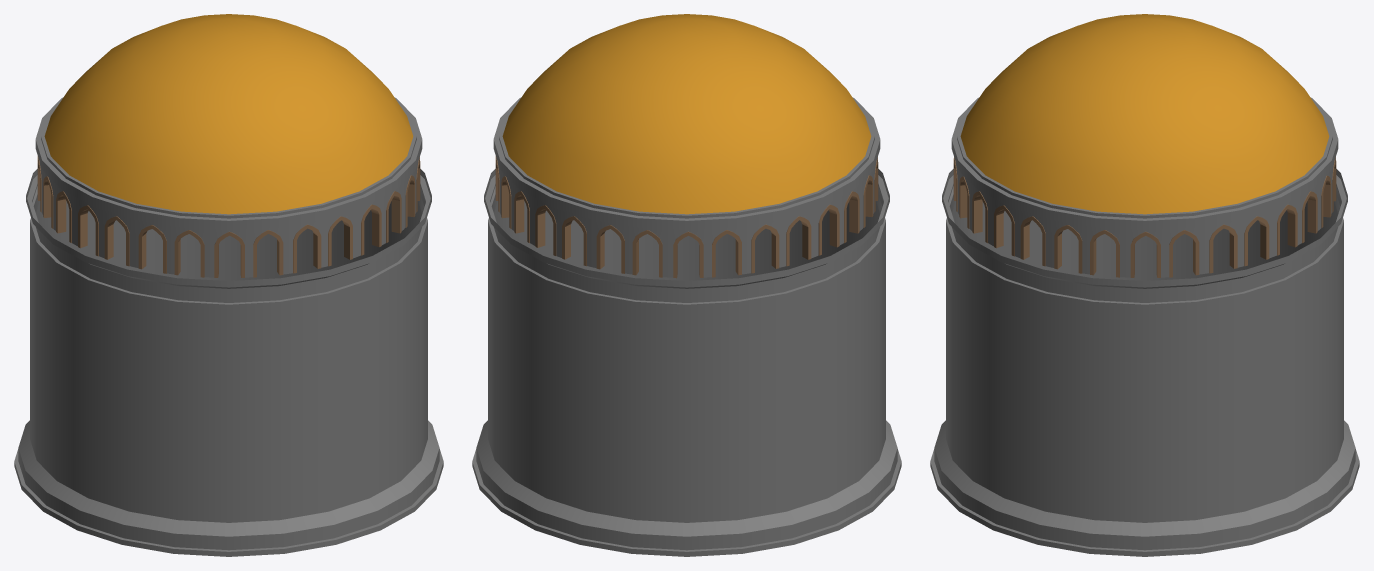
File: SM_building_dome_modular_02.fbx
3 views of the same model, side by side, from view 1: azimuth 30°, elevation 25°; view 2: azimuth 150°, elevation 25°; view 3: azimuth 270°, elevation 25° (orthographic).
Visible parts, largest first — view 1: Sphere010; view 2: Sphere010; view 3: Sphere010.
Boxes of the visible parts, x1=… form: Sphere010: x1=14, y1=14, x2=443, y2=556; Sphere010: x1=472, y1=14, x2=901, y2=556; Sphere010: x1=930, y1=14, x2=1359, y2=556.
Bounding box in the file's own units: 566 × 566 × 627.
